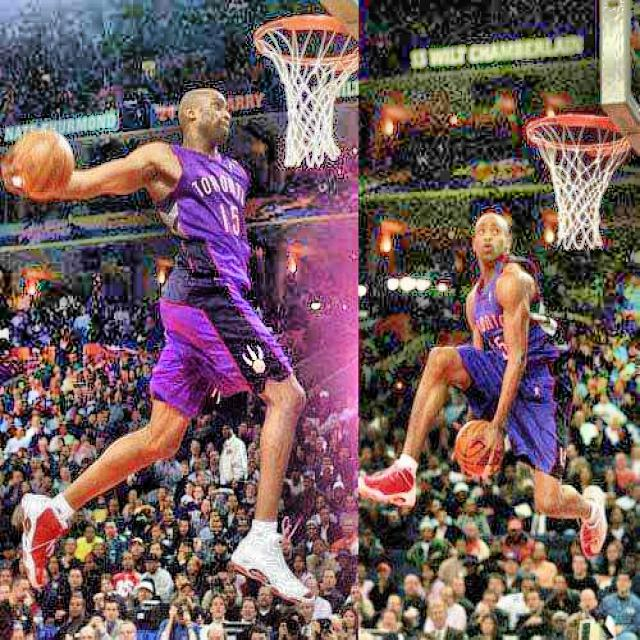rim: (256, 15, 360, 166), (527, 113, 629, 248)
